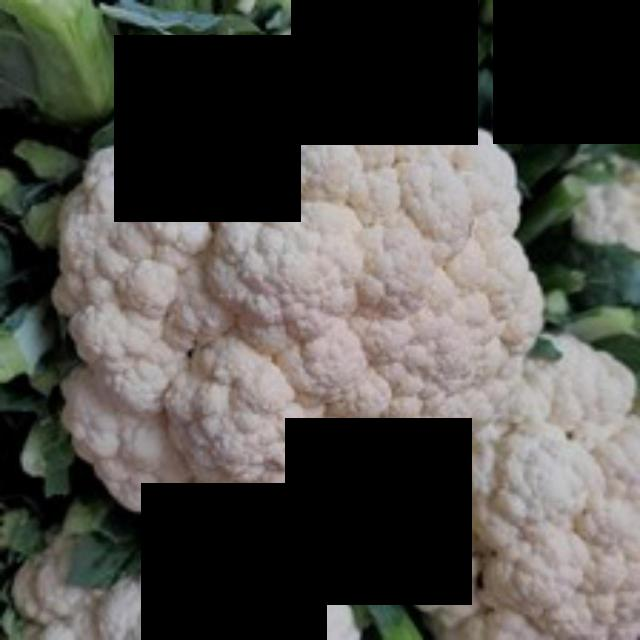cauliflower: (50, 24, 567, 590)
